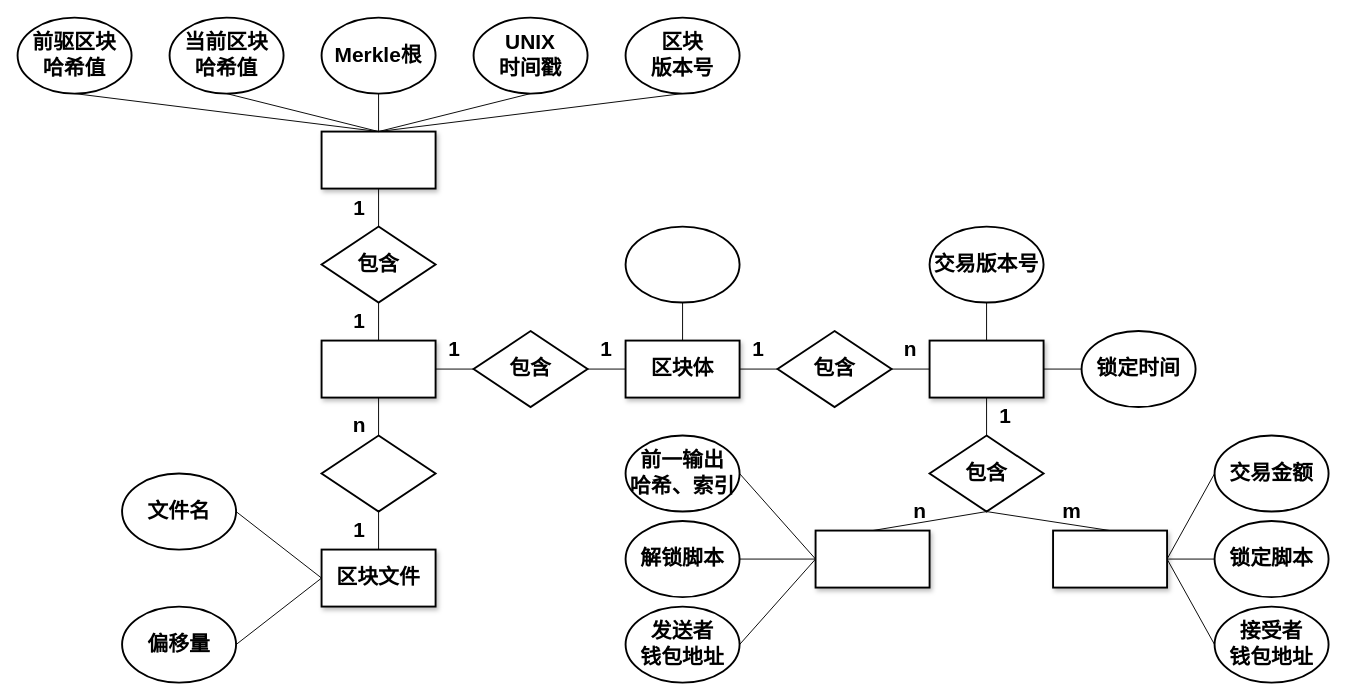
This 1345x699 diagram has some shape labels left out. Each missing label, with the centre of its shape:
交易数量: point (682, 264)
交易记录: point (987, 370)
区块: point (379, 370)
区块头: point (379, 161)
存储: point (378, 473)
输入: point (873, 560)
输出: point (1110, 560)
